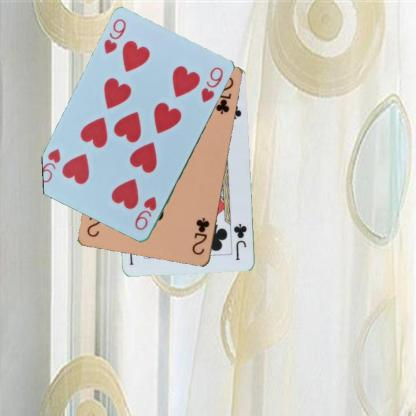2c: (189, 215, 211, 256)
9h: (101, 16, 128, 56), (132, 194, 158, 232)
Jc: (231, 221, 248, 262)
